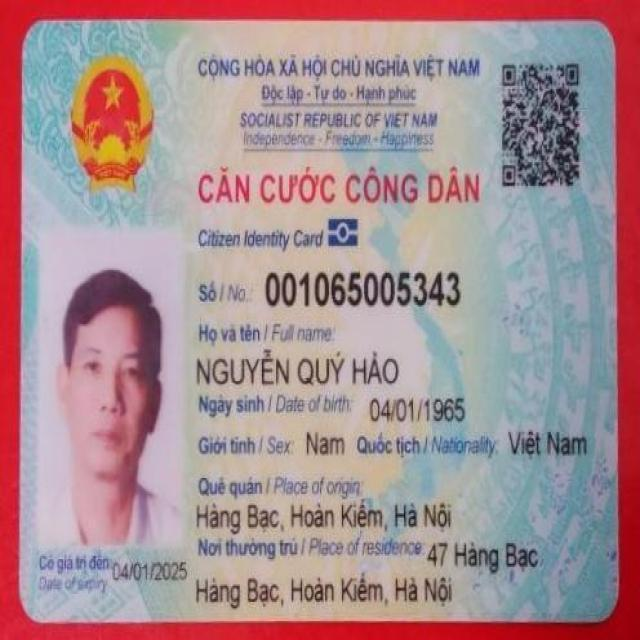current_place: (193, 571, 462, 617), (422, 539, 542, 572)
dob: (366, 396, 472, 423)
expire_date: (111, 559, 191, 586)
gender: (305, 424, 349, 464)
id: (263, 268, 463, 307)
name: (196, 343, 400, 387)
nationality: (507, 430, 588, 461)
origin_place: (195, 499, 454, 538)
